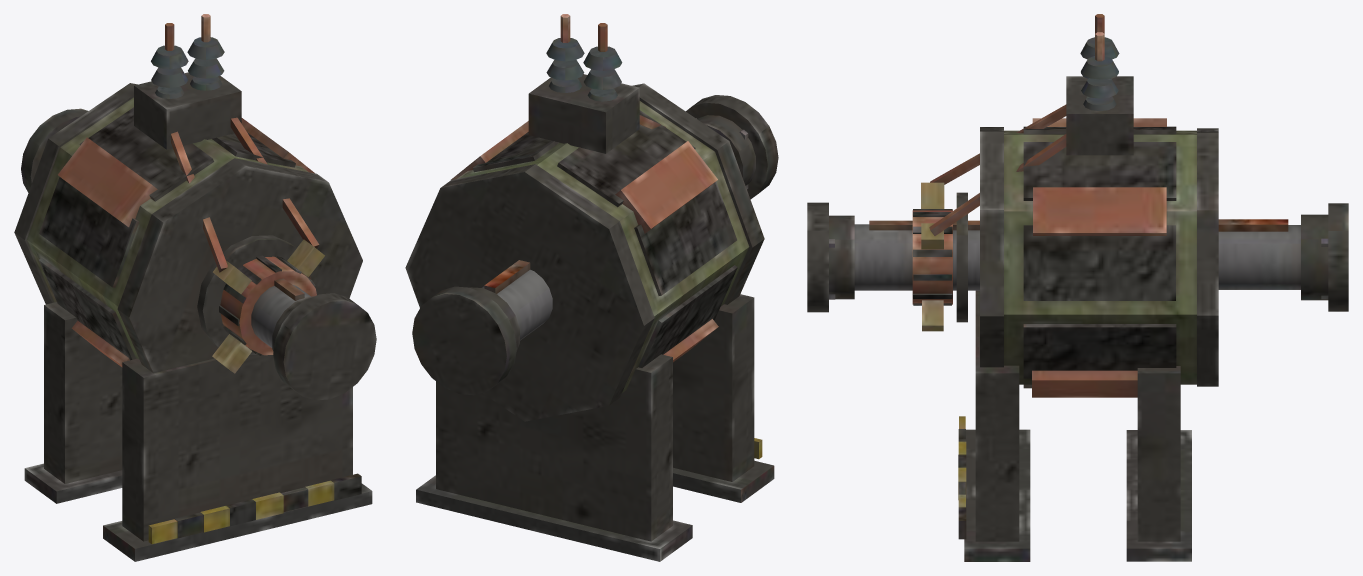
The model's file is feDynamo.glb.
3 renders of one model, left to right at view 1: azimuth 30°, elevation 25°; view 2: azimuth 150°, elevation 25°; view 3: azimuth 270°, elevation 25°, orthographic. The views are drawn at different scales.
Visible parts, largest first — view 1: feDynamo_Base, FeSpin_DynamoArmature; view 2: feDynamo_Base, FeSpin_DynamoArmature; view 3: feDynamo_Base, FeSpin_DynamoArmature.
Boxes of the visible parts, <box> form: feDynamo_Base: <box>14,14,372,561</box>; FeSpin_DynamoArmature: <box>21,108,376,400</box>; feDynamo_Base: <box>405,14,774,561</box>; FeSpin_DynamoArmature: <box>412,95,778,395</box>; feDynamo_Base: <box>921,14,1218,561</box>; FeSpin_DynamoArmature: <box>807,202,1348,312</box>.
Bounding box in the file's own units: 0.5224 × 0.9772 × 1.
Materials: 1 (1 with a texture image).
